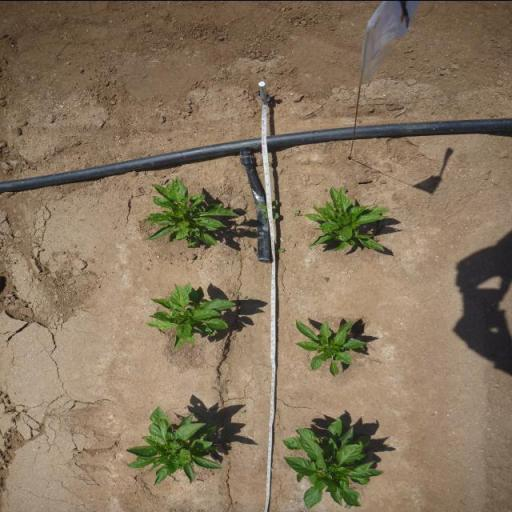plant: (282, 416, 388, 512), (122, 403, 225, 480), (299, 183, 389, 260), (141, 178, 240, 247), (145, 281, 238, 348), (292, 315, 370, 376)
weed: (257, 200, 280, 218), (293, 207, 302, 217), (277, 247, 285, 253), (323, 276, 330, 282), (249, 227, 254, 233), (238, 290, 242, 296), (240, 409, 246, 413), (242, 296, 248, 298)
